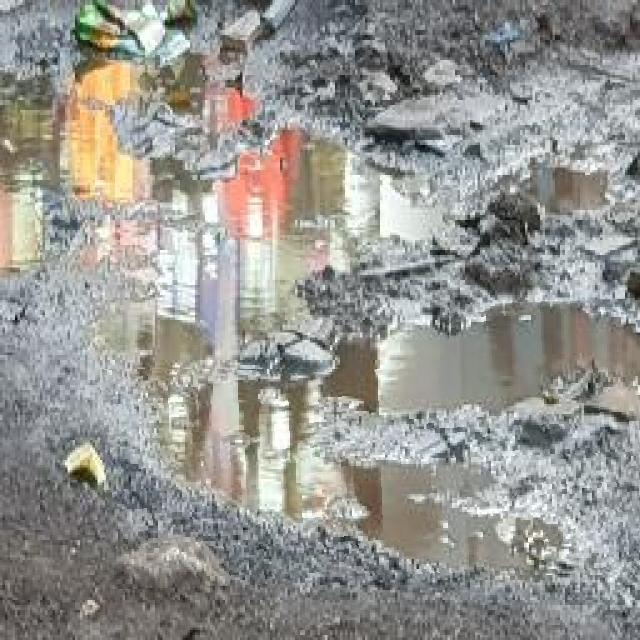puddle: (101, 303, 640, 585), (1, 61, 450, 370)
